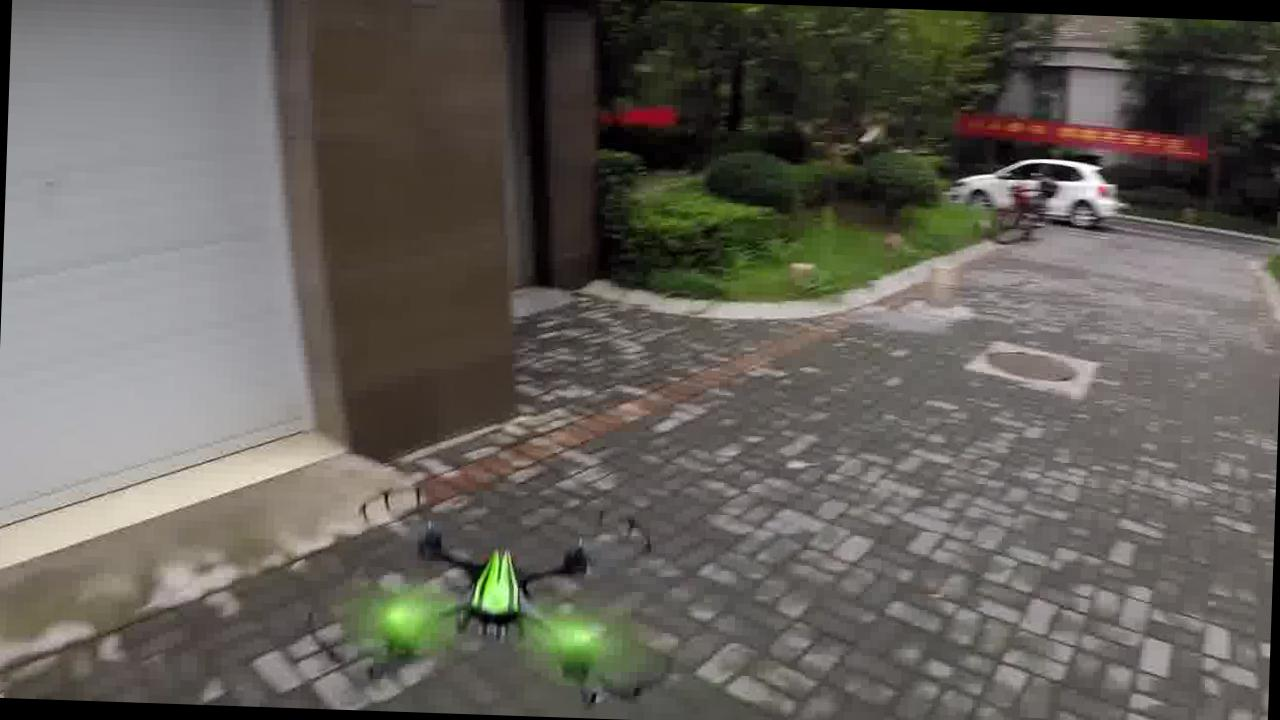drone: (290, 492, 680, 697)
